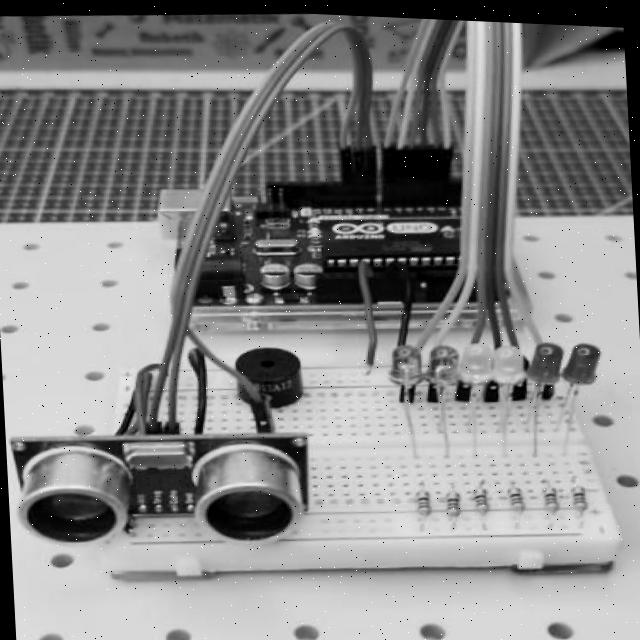Arduino: (137, 164, 541, 339)
Ultrasonic Sensor: (8, 420, 319, 560)
